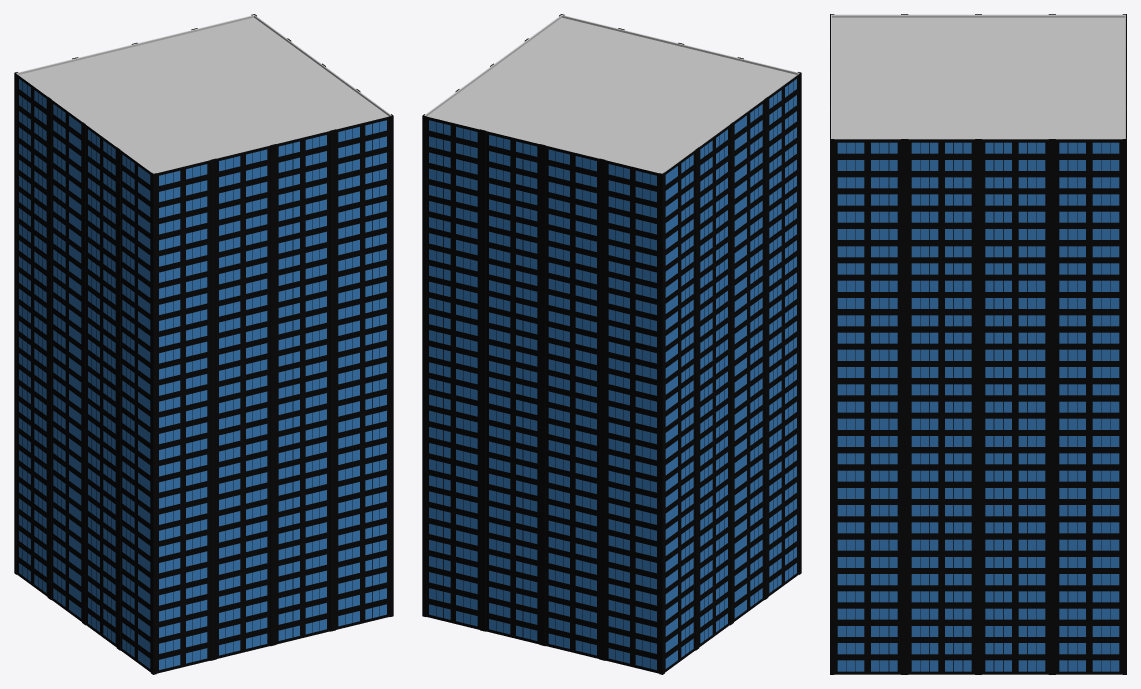
Rendered from Building.obj.
The picture shows the model from 3 angles, left to right: view 1: azimuth 30°, elevation 25°; view 2: azimuth 150°, elevation 25°; view 3: azimuth 270°, elevation 25°; orthographic projection. The views are drawn at different scales.
Parts seen in each view (by area): view 1: Cube_Cube.002; view 2: Cube_Cube.002; view 3: Cube_Cube.002.
Boxes of the visible parts, x1,y1,x2,y2 form: Cube_Cube.002: (14,14,393,674); Cube_Cube.002: (422,14,801,674); Cube_Cube.002: (830,14,1126,674).
Bounding box in the file's own units: 2.01 × 4 × 2.01.
